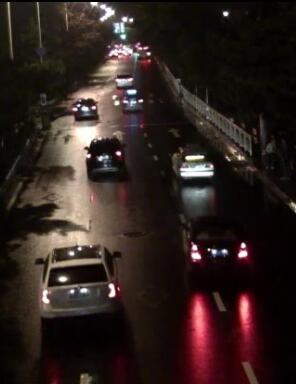car: (33, 244, 126, 321), (179, 210, 256, 282), (169, 142, 217, 184), (81, 136, 127, 175), (70, 97, 99, 117), (119, 88, 145, 109), (114, 71, 133, 88)
